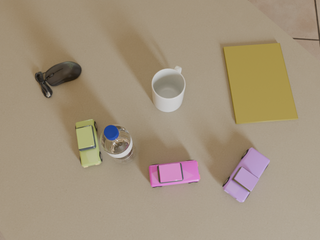book: (223, 43, 298, 124)
bottle: (101, 125, 136, 164)
cup: (152, 66, 185, 112)
mouse: (35, 61, 81, 98)
toy_car: (223, 148, 270, 202), (149, 160, 200, 188), (76, 119, 102, 167)
